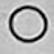no answer: (6, 3, 48, 44)
